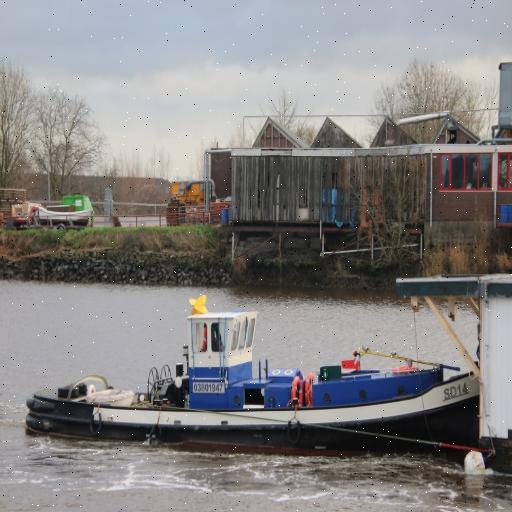tugboat: (22, 292, 485, 483)
